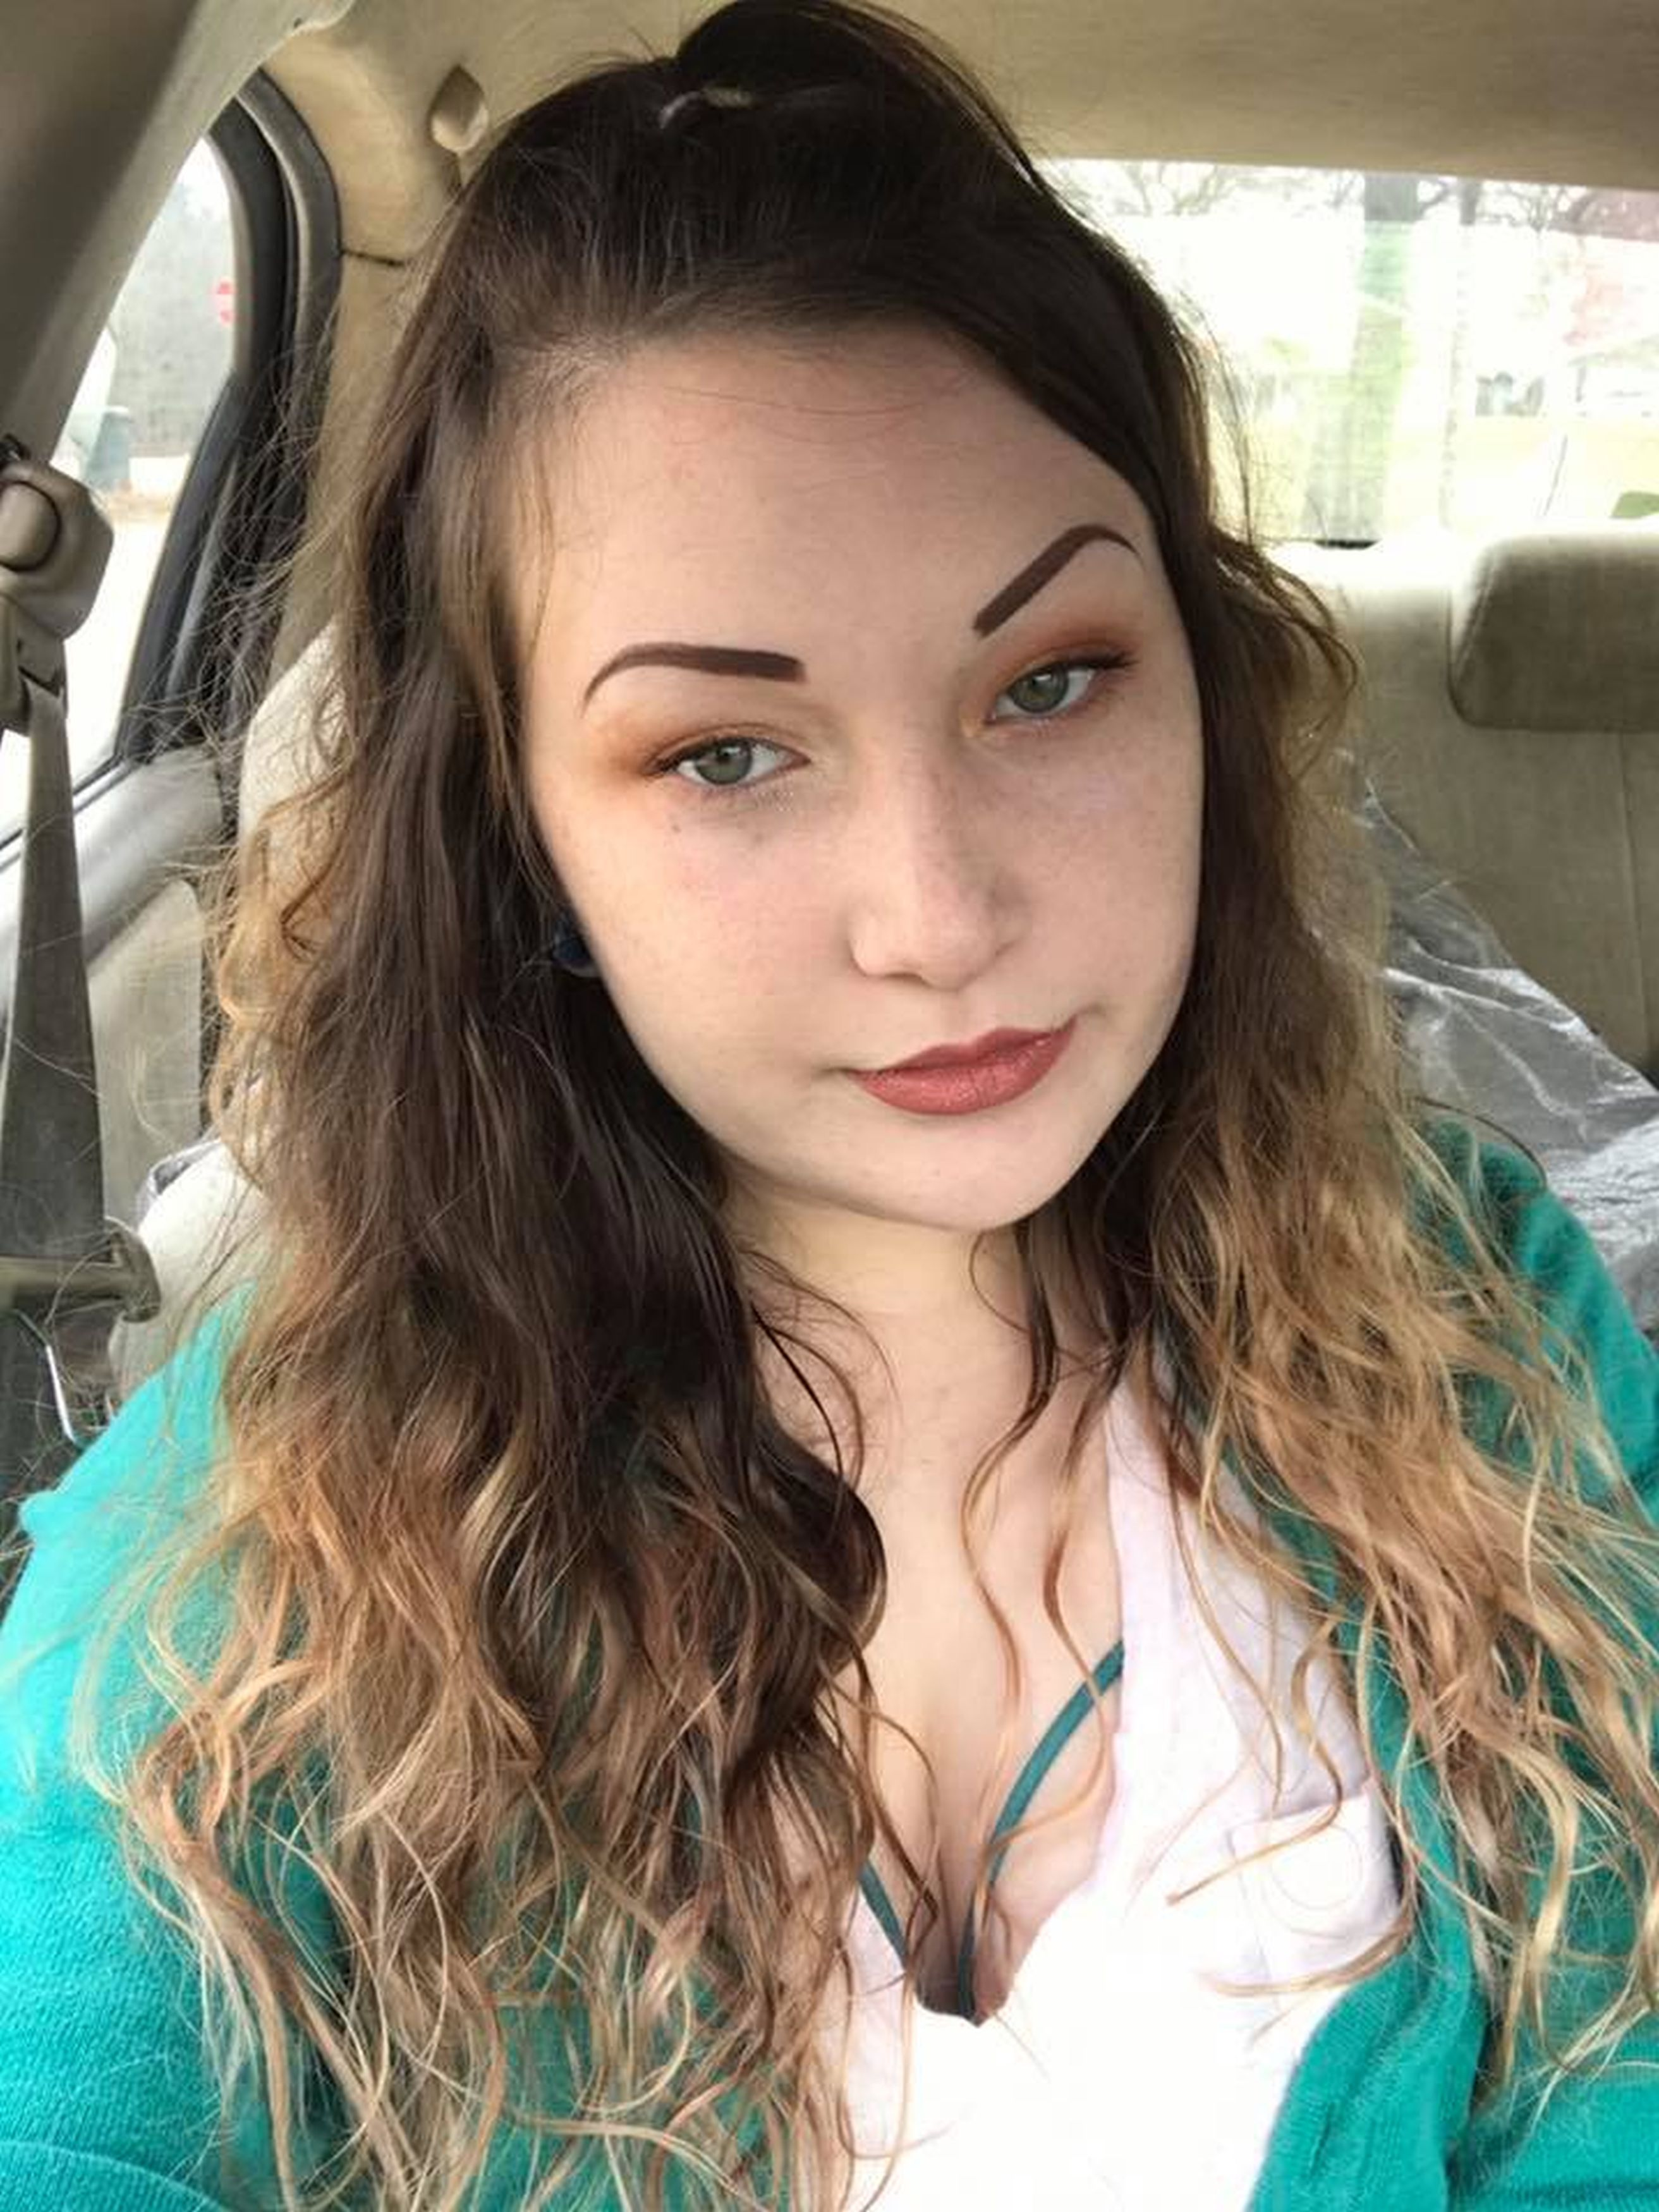person: (1, 1, 1659, 2212)
